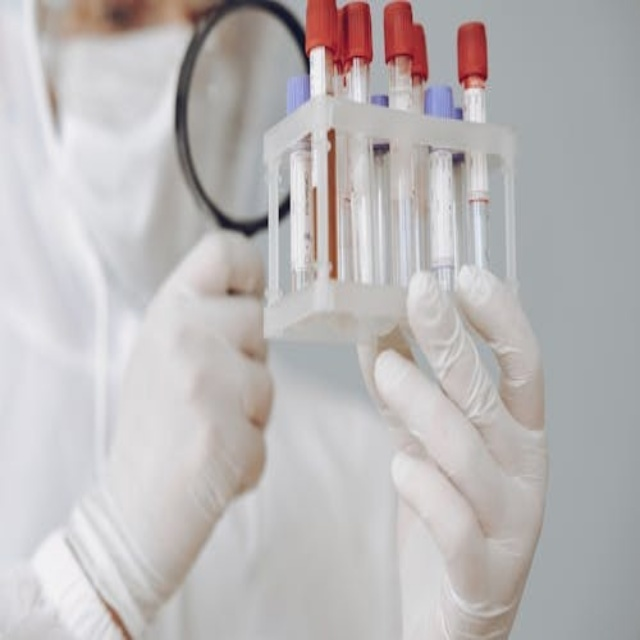Guantes: (65, 226, 277, 634), (372, 248, 550, 628)
Mascara: (33, 7, 205, 308)
